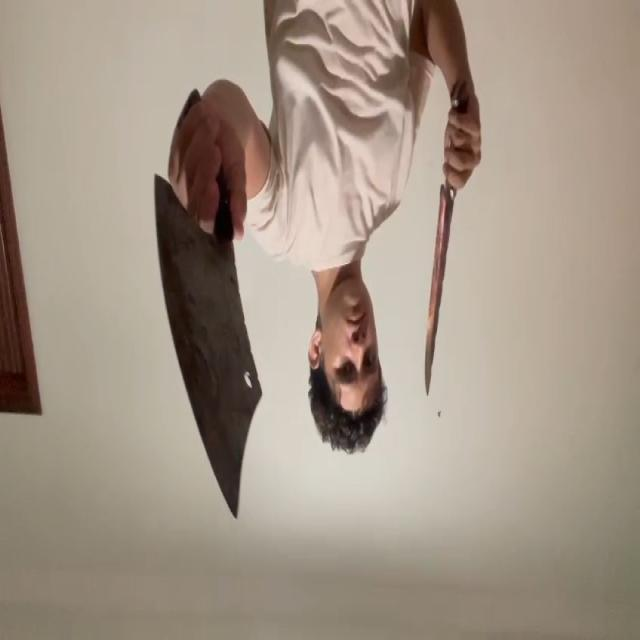knife: (153, 176, 264, 517), (424, 188, 454, 398)
